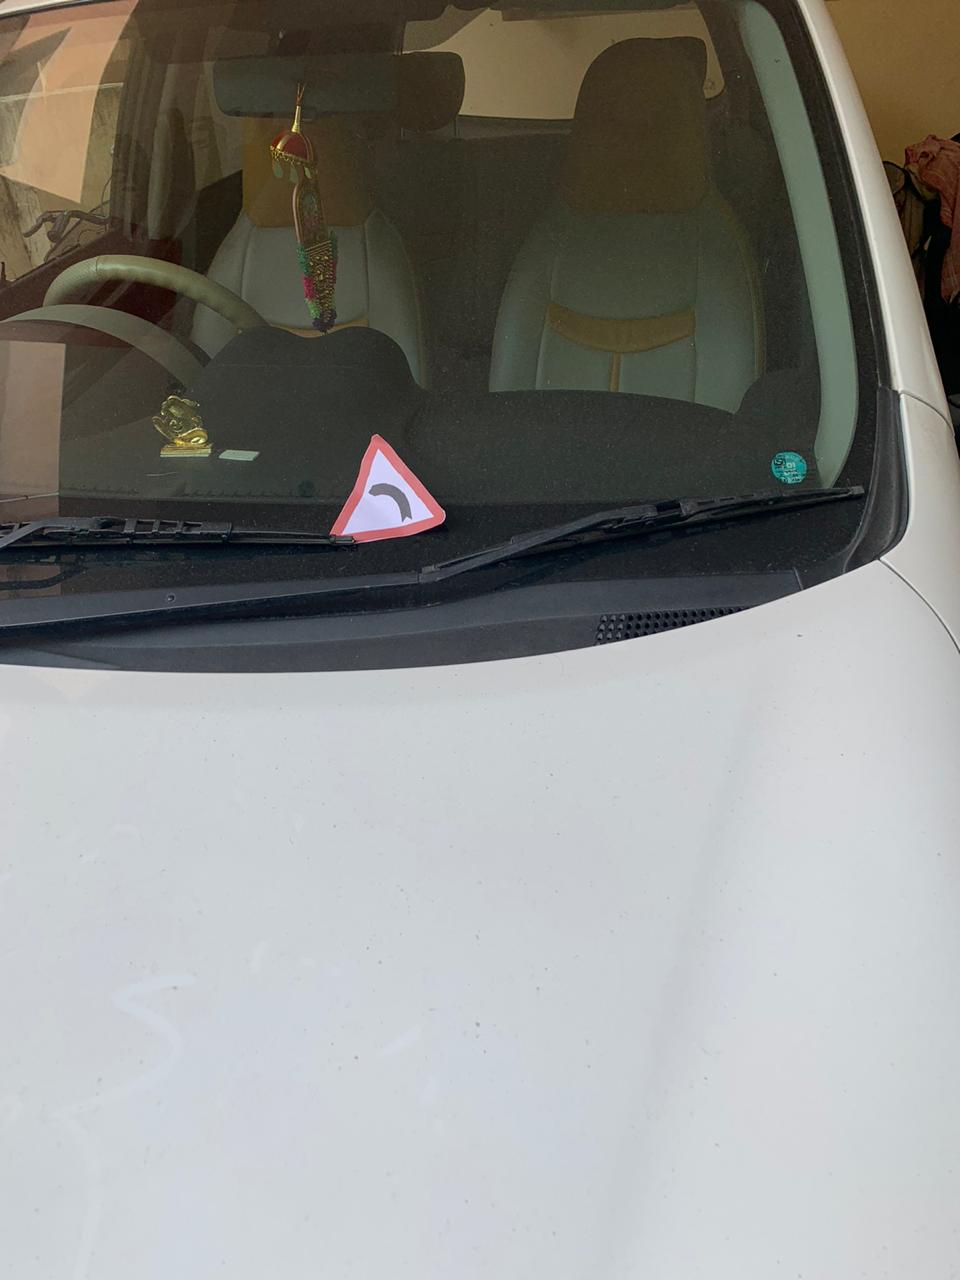LEFT CURVE: (322, 414, 480, 579)
